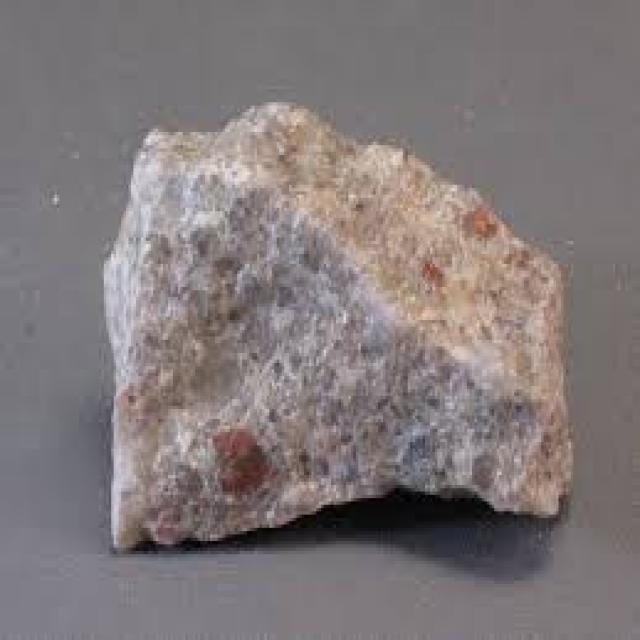Metamorphic: (101, 109, 574, 541)
